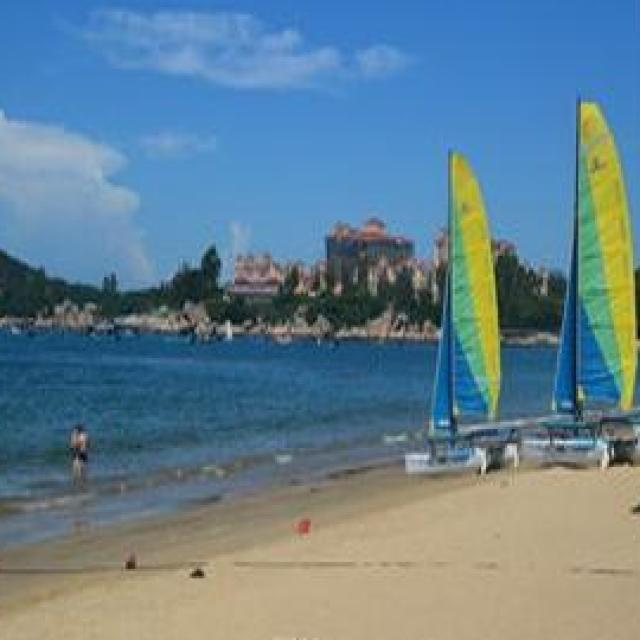sailboat: (491, 76, 640, 479), (397, 146, 492, 480)
